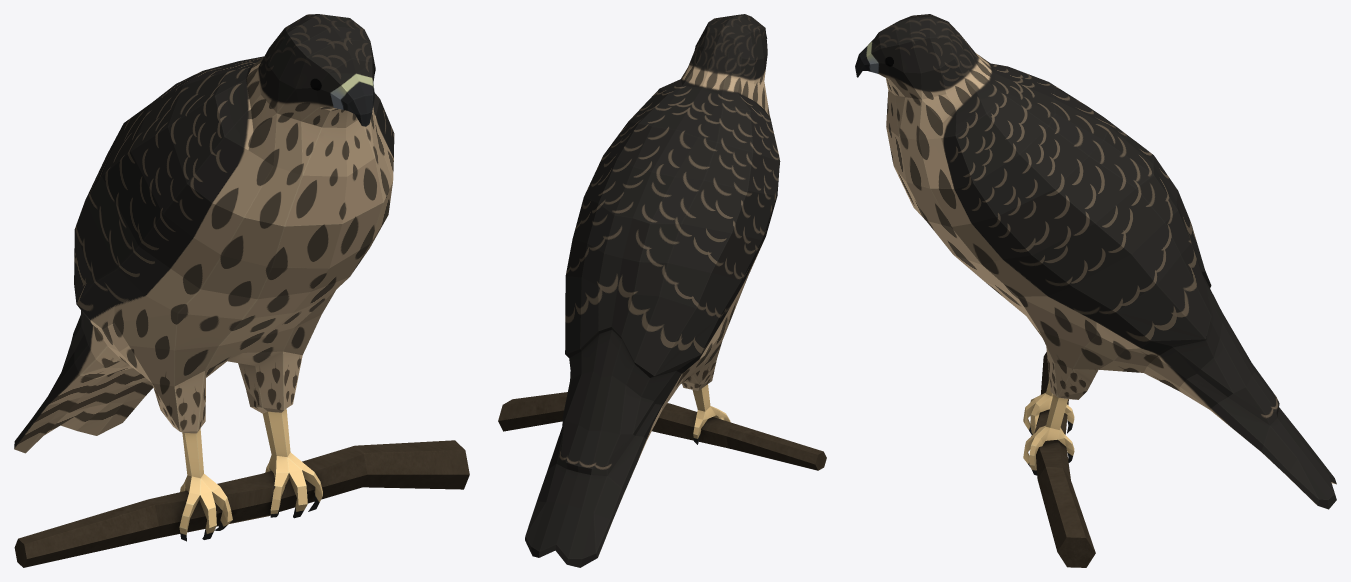
The picture shows the model from 3 angles, left to right: view 1: azimuth 30°, elevation 25°; view 2: azimuth 150°, elevation 25°; view 3: azimuth 270°, elevation 25°; orthographic projection. The views are drawn at different scales.
Visible parts, largest first — view 1: NorthernGoshawk_Mesh; view 2: NorthernGoshawk_Mesh; view 3: NorthernGoshawk_Mesh.
Part boxes in pixels (<box>): NorthernGoshawk_Mesh: <box>14,14,469,567</box>; NorthernGoshawk_Mesh: <box>498,14,826,567</box>; NorthernGoshawk_Mesh: <box>855,14,1336,567</box>.
Size of the model in its own units: 2.74 by 3.56 by 3.25.
1 material, 1 textured.
